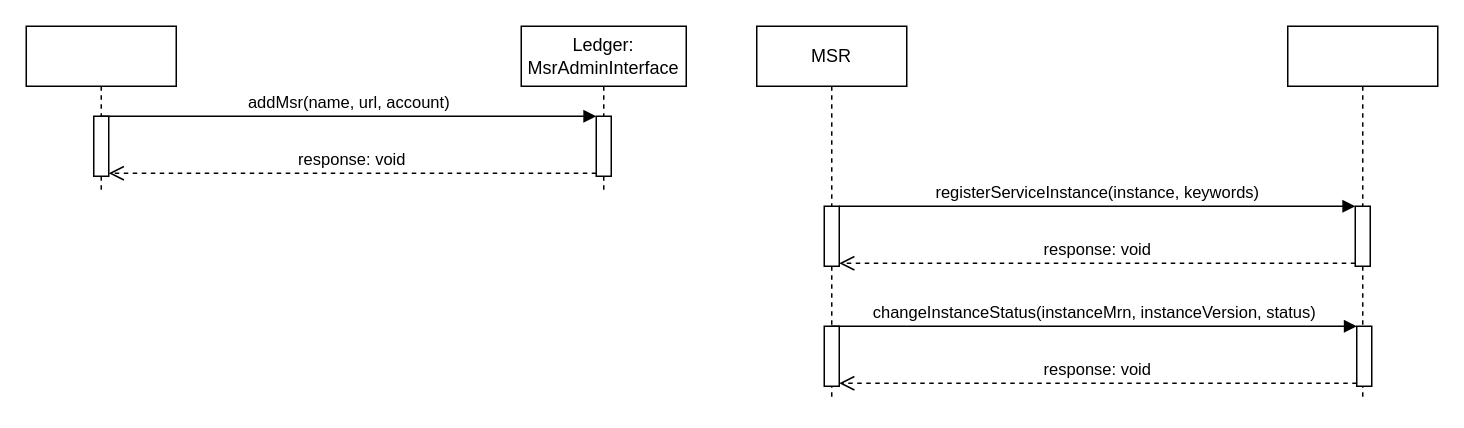
The diagram is 1464 pixels wide and 428 high, and some of its shapes have lost their labels. The shapes that lost their labels are listed below. From the top down, each one's centre as x and y in pixels, then its label:
At [100,108]: "MSR Admin".
At [1362,213]: "Ledger: MsrInterface".
